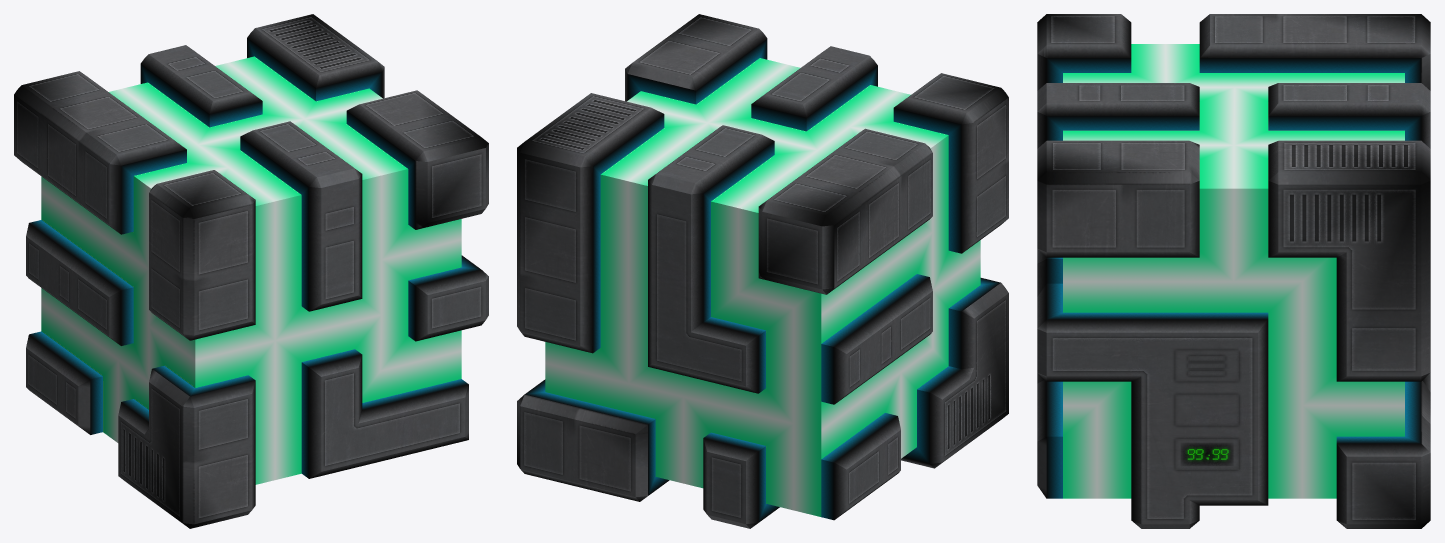
Rendered from Artifact01.FBX.
3 views of the same model, side by side, from view 1: azimuth 30°, elevation 25°; view 2: azimuth 150°, elevation 25°; view 3: azimuth 270°, elevation 25° (orthographic). The views are drawn at different scales.
Parts seen in each view (by area): view 1: Artifact01; view 2: Artifact01; view 3: Artifact01.
Part boxes in pixels (x1,y1,x2,y2): Artifact01: (14, 14, 488, 528); Artifact01: (517, 14, 1008, 528); Artifact01: (1037, 14, 1430, 528).
Bounding box in the file's own units: 20.26 × 20.26 × 20.26.
